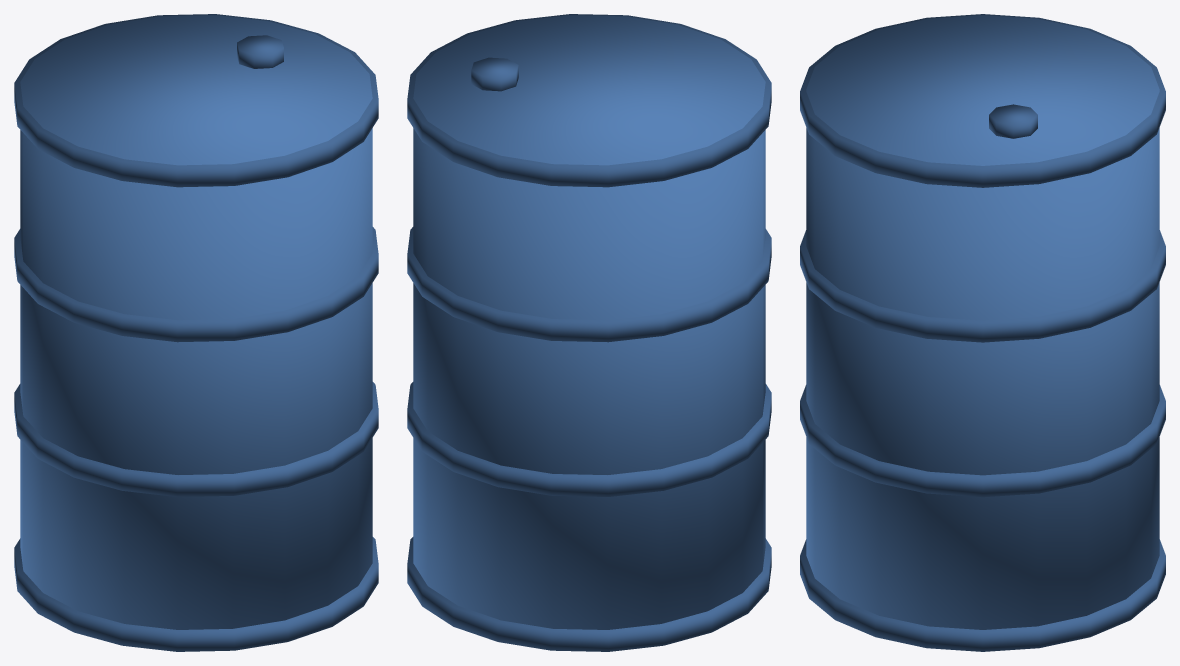
Rendered from oil_drum_blue.glb.
3 renders of one model, left to right at view 1: azimuth 30°, elevation 25°; view 2: azimuth 150°, elevation 25°; view 3: azimuth 270°, elevation 25°, orthographic.
Parts seen in each view (by area): view 1: Drum; view 2: Drum; view 3: Drum.
Boxes of the visible parts, bbox=[...] form: Drum: bbox=[14, 14, 378, 651]; Drum: bbox=[407, 14, 771, 651]; Drum: bbox=[800, 14, 1165, 651].
Bounding box in the file's own units: 0.6 × 0.905 × 0.6.
